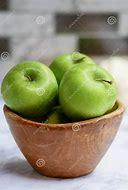apple: (0, 56, 58, 117), (58, 60, 121, 115), (47, 43, 92, 74)
